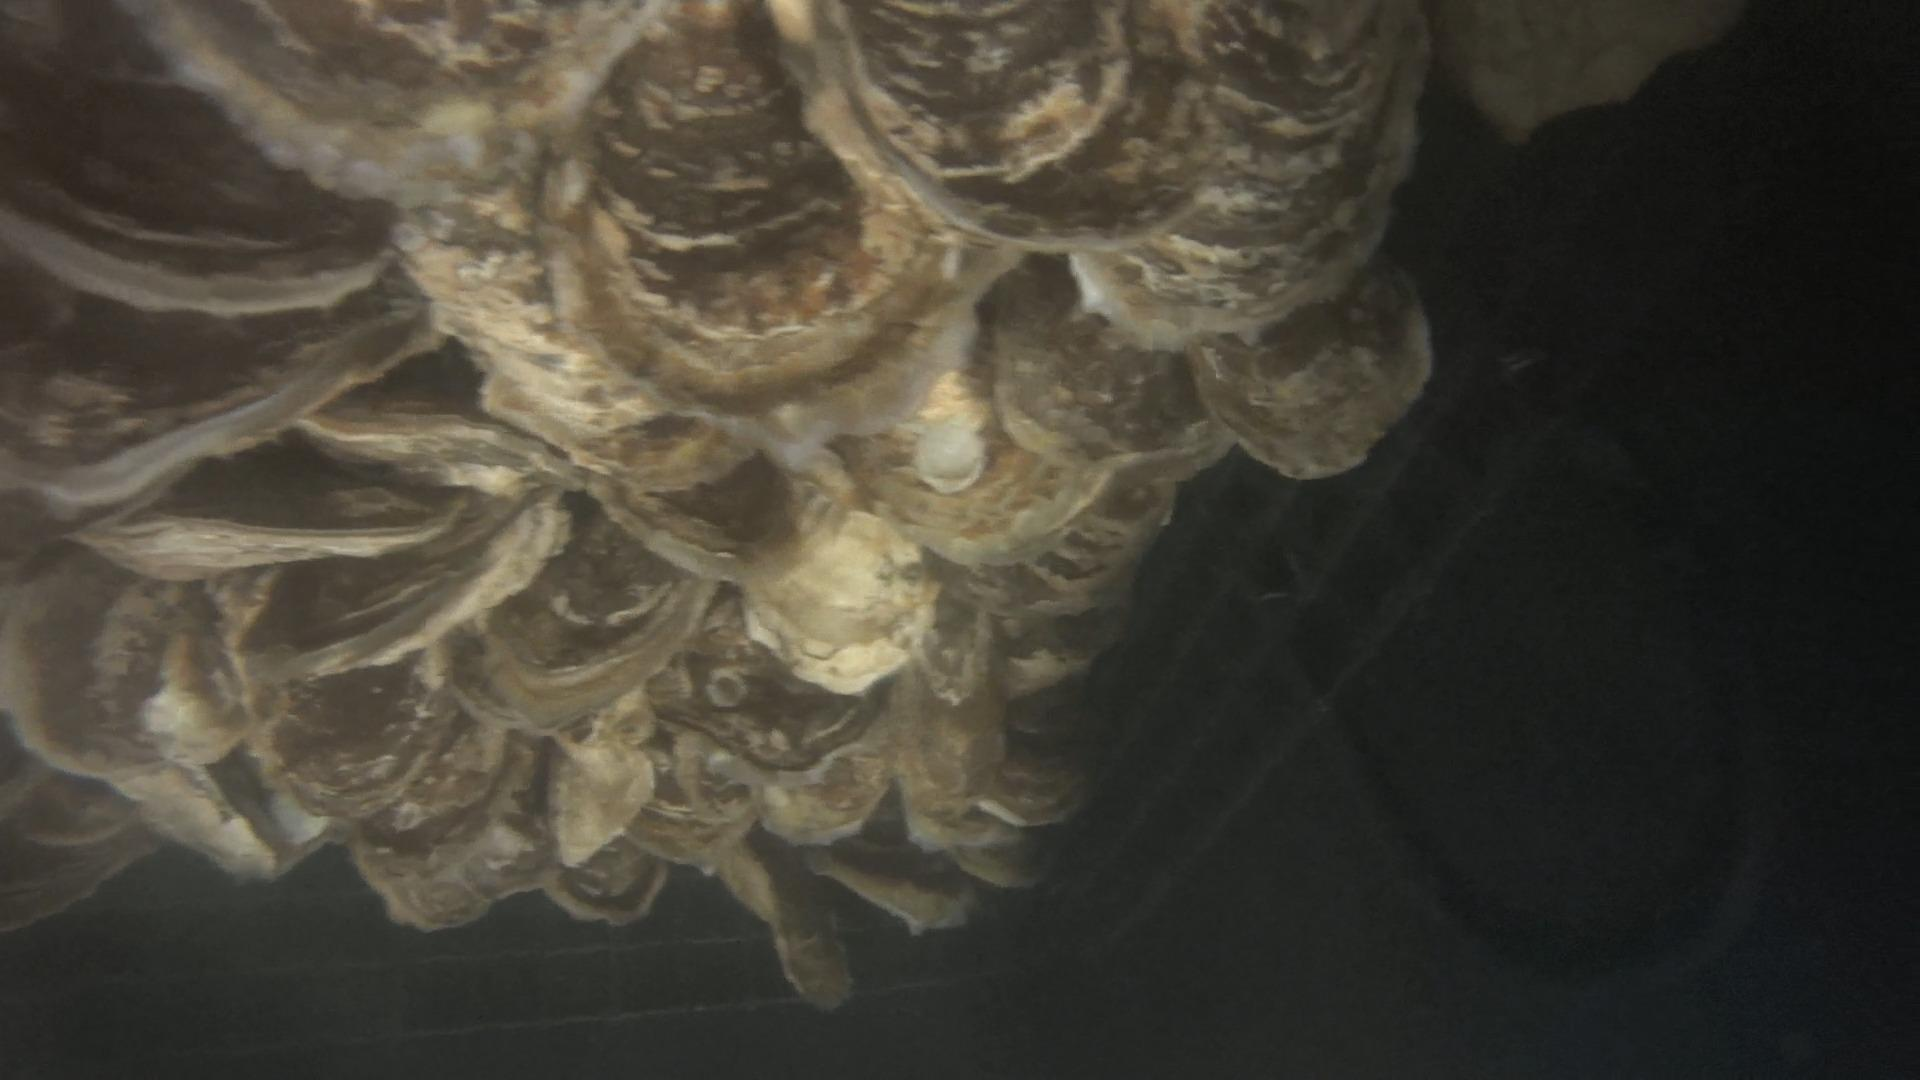3: (541, 1, 1007, 455), (0, 0, 388, 314), (0, 241, 433, 517), (237, 488, 568, 683), (450, 495, 713, 733), (75, 436, 476, 578), (992, 256, 1234, 477), (487, 497, 712, 691), (591, 448, 861, 580), (262, 647, 458, 818), (716, 825, 851, 1010), (803, 793, 976, 935), (756, 717, 891, 844), (978, 679, 1089, 827), (542, 837, 666, 924)
Oyster- Indeterminate: (138, 0, 746, 487), (1076, 0, 1429, 343), (814, 0, 1208, 245), (0, 551, 247, 777), (837, 365, 1108, 563), (1188, 258, 1432, 476), (647, 585, 884, 771), (741, 492, 938, 694), (0, 716, 157, 931), (891, 665, 1021, 849), (550, 687, 653, 866)
Oyster-Closed: (918, 480, 1175, 698), (295, 338, 582, 496), (345, 736, 556, 930), (113, 748, 303, 877), (947, 833, 1044, 887)
